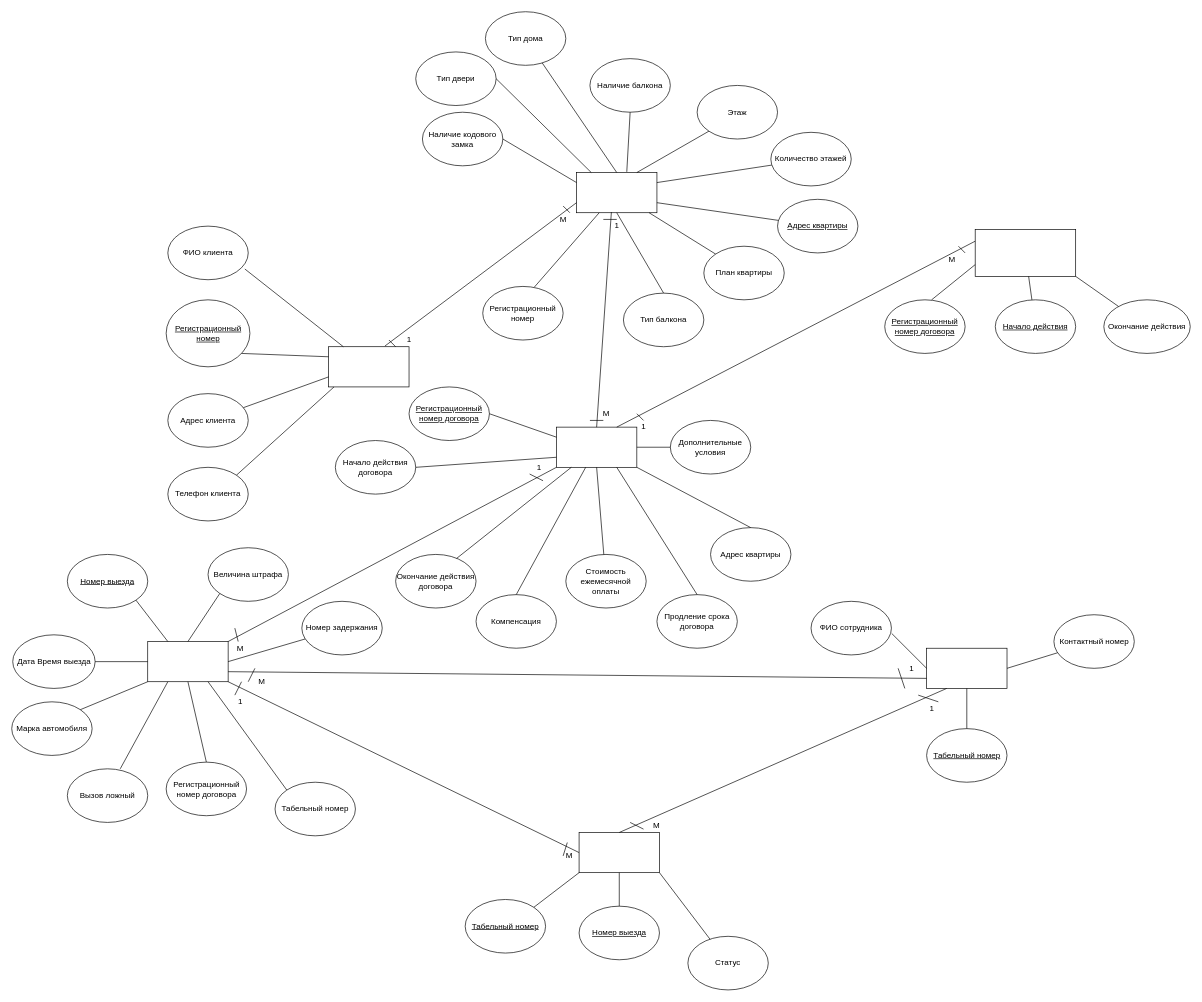
Some shapes in this 1202 by 1002 pixel diagram are drawn without their labels. Here are the shapes that lost their labels. From the top down, the centre of each, then its label:
At (616,192): "Квартира".
At (1025,252): "Продление договора".
At (368,366): "Клиент".
At (596,446): "Договор".
At (187,661): "Вызов".
At (966,668): "Сотрудник охраны".
At (618,852): "Сотрудник охраны Вызов".
